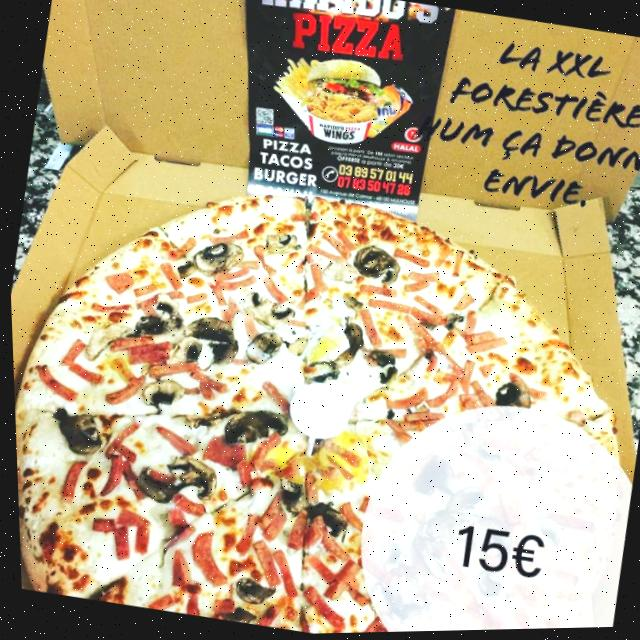mushrooms: (215, 395, 293, 457), (173, 304, 242, 372), (38, 400, 107, 460), (235, 324, 308, 379), (120, 288, 186, 348), (126, 458, 195, 515), (157, 449, 219, 507), (182, 233, 251, 284), (231, 285, 296, 335), (320, 313, 367, 377), (75, 315, 132, 367), (345, 241, 404, 291), (297, 495, 351, 545), (132, 368, 188, 413), (295, 350, 348, 394), (355, 343, 402, 390), (264, 473, 308, 523), (163, 328, 206, 373), (174, 401, 224, 439), (222, 575, 273, 611), (255, 228, 307, 263), (488, 376, 528, 415), (431, 305, 471, 341), (211, 601, 252, 626), (168, 255, 197, 284), (338, 294, 365, 316), (307, 439, 323, 461), (415, 318, 435, 335), (379, 407, 394, 425)
pizza: (5, 146, 640, 640)
